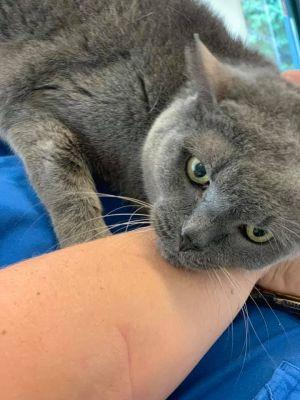rblue: (140, 50, 300, 276)
